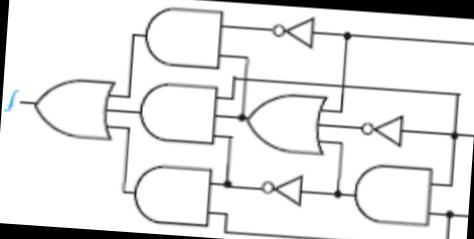and: (135, 73, 222, 147), (137, 2, 226, 72), (129, 158, 216, 229), (349, 159, 434, 230)
not: (358, 106, 408, 150), (258, 168, 308, 211), (270, 12, 318, 51)
or: (28, 73, 116, 145), (242, 90, 328, 158)
